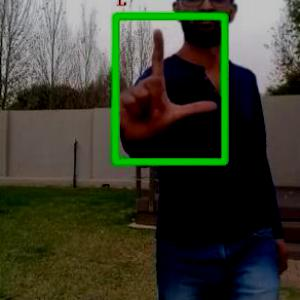land_hand: (115, 23, 221, 148)
